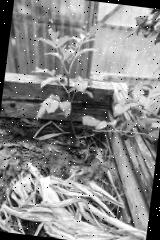organic: (27, 9, 117, 148), (6, 161, 153, 240), (2, 122, 68, 165)
